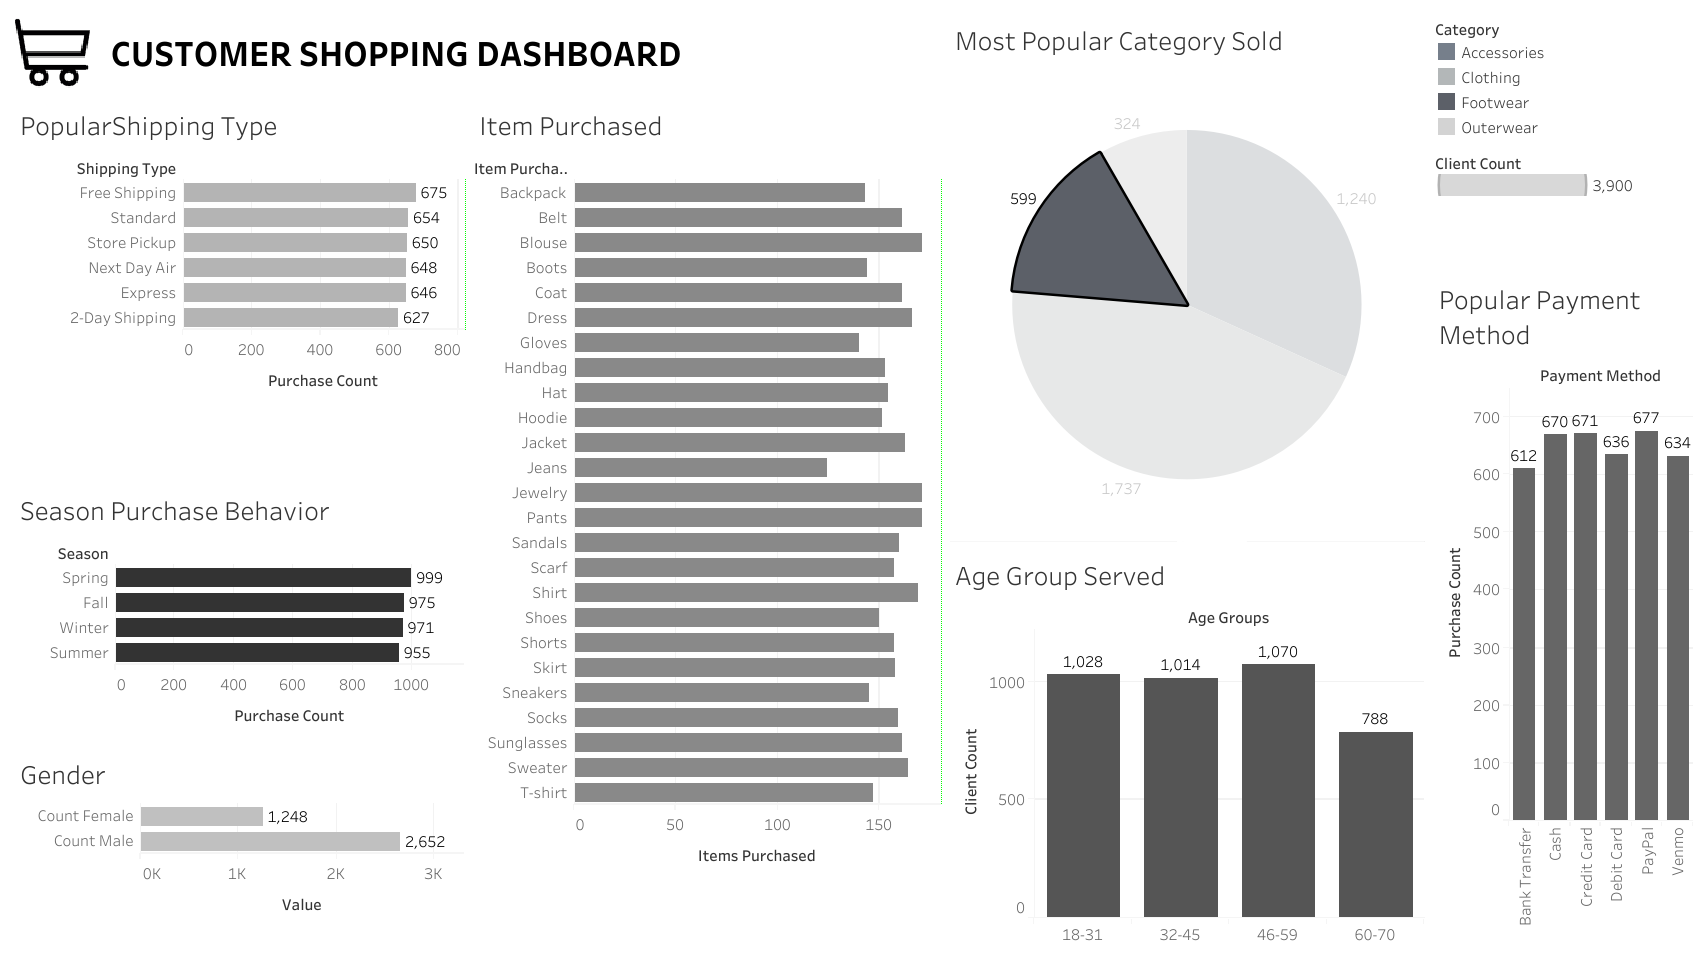

This screenshot's page, from the dashboard's own definition file:
{"tool":"tableau","page":{"name":"Dashboard 1","canvas":[1366,768],"ordinal":0},"visuals":[{"type":"image","param":"Image/images.png","box":[8,8,74,68]},{"type":"text","box":[82,8,656,68]},{"type":"worksheet","title":"Sheet 7","mark":"Pie","box":[756,8,386.6,428]},{"type":"legend","title":"Sheet 7","param":"[federated.11erps208bzf131764app1c9uagm].[none:Category:nk]","box":[1142.6,8,215.4,107]},{"type":"worksheet","title":"Sheet 4","mark":"Automatic","rows":["Shipping Type"],"cols":["purchase_count"],"box":[8,76,367,308]},{"type":"worksheet","title":"Sheet 5","mark":"Automatic","rows":["Item Purchased"],"cols":["items_purchased"],"box":[375,76,381,670]},{"type":"legend","title":"Sheet 7","param":"[federated.11erps208bzf131764app1c9uagm].[sum:client_count:qk]","box":[1142.6,115,215.4,77]},{"type":"worksheet","title":"Sheet 1","mark":"Bar","rows":["purchase_count"],"cols":["Payment Method"],"box":[1142.6,215,215.4,545]},{"type":"worksheet","title":"Sheet 3","mark":"Automatic","rows":["Season"],"cols":["purchase_count"],"box":[8,384,367,211]},{"type":"worksheet","title":"Sheet 2","mark":"Automatic","rows":["client_count"],"cols":["age_groups"],"box":[756,436,386.6,324]},{"type":"worksheet","title":"Sheet 9","mark":"Automatic","box":[8,595,367,151]},{"type":"blank","box":[375,746,32,14]}]}

Visuals, with their boxes in screenshot pixels (x1, y1, x2, y2), scaled from the page's 1366x768 canvas onto the 1706x959 screenshot:
image: 10:10:102:95
text: 102:10:922:95
"Sheet 7" worksheet (Pie marks): 944:10:1427:544
"Sheet 7" legend: 1427:10:1696:144
"Sheet 4" worksheet: 10:95:468:480
"Sheet 5" worksheet: 468:95:944:932
"Sheet 7" legend: 1427:144:1696:240
"Sheet 1" worksheet (Bar marks): 1427:268:1696:949
"Sheet 3" worksheet: 10:480:468:743
"Sheet 2" worksheet: 944:544:1427:949
"Sheet 9" worksheet: 10:743:468:932
blank: 468:932:508:949
